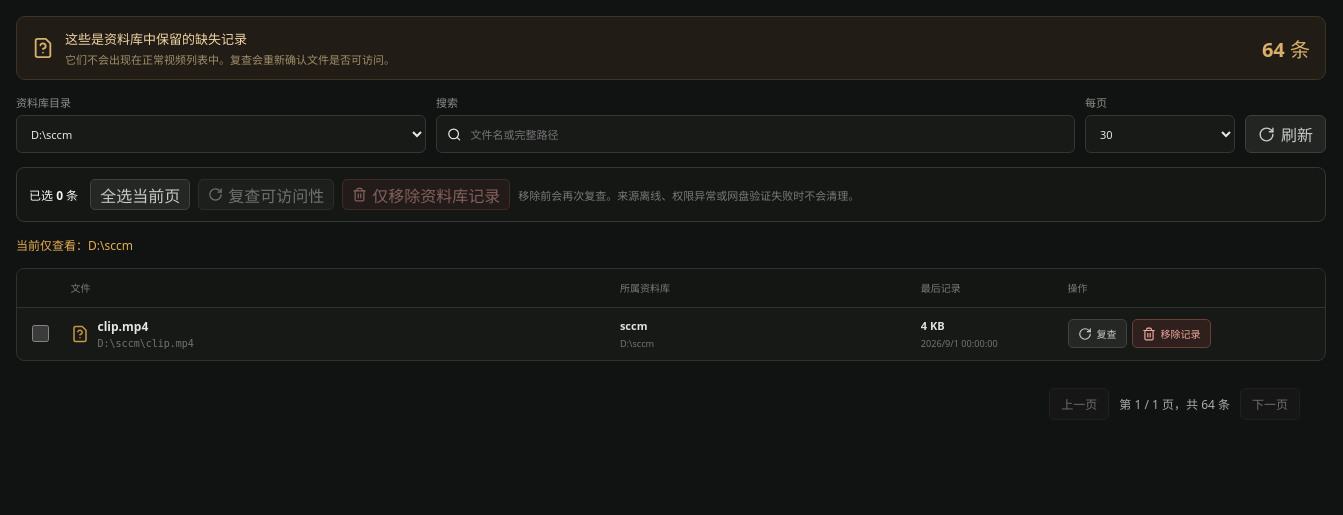
MissingVideosPage › loads a source-scoped missing list and rechecks selected records
Expected: the text "clip.mp4" is shown, x1=98 y1=318 x2=148 y2=335
Expected: the text "64 条" is shown, x1=1262 y1=34 x2=1310 y2=62
Click the checkbox named "选择 clip.mp4" at (40, 334), box x1=32 y1=325 x2=49 y2=342
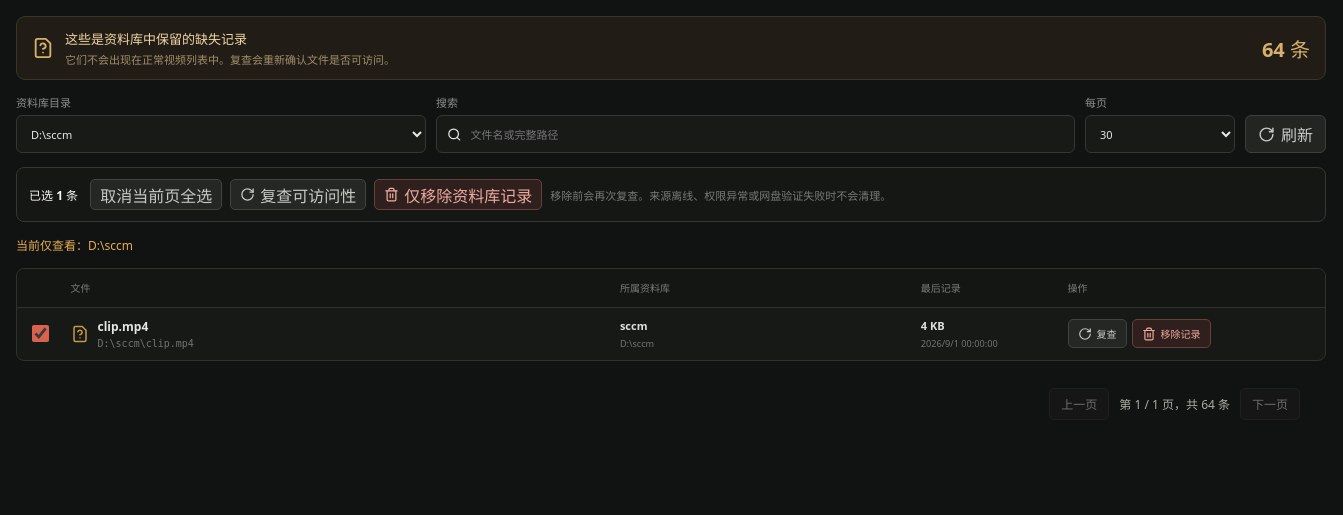
Click the button "复查可访问性" at (298, 194), box x1=230 y1=179 x2=366 y2=210
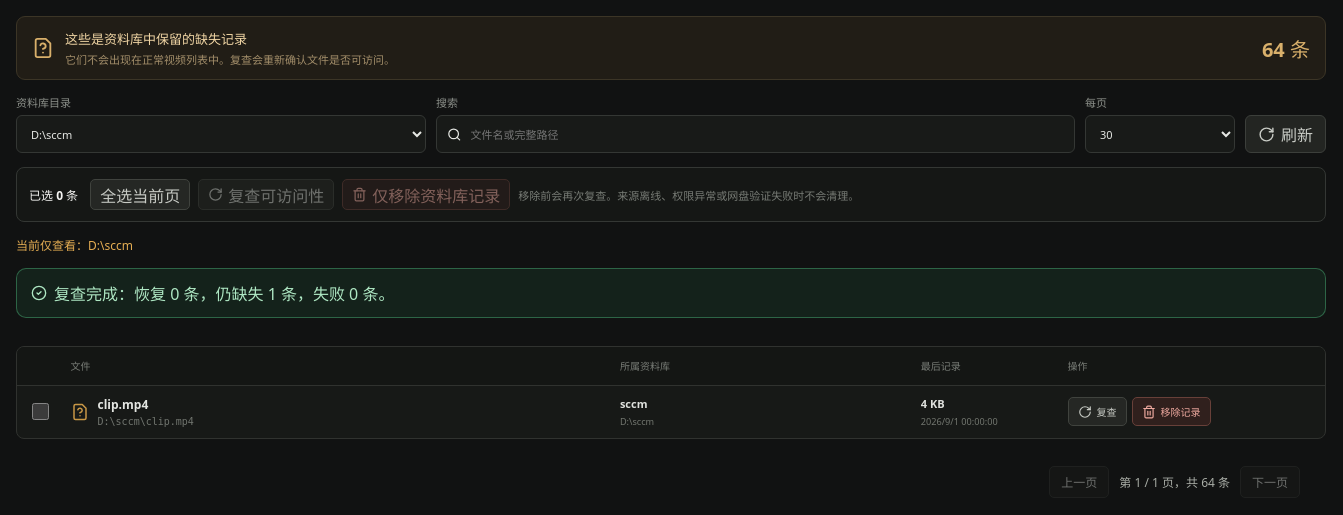
Result: the text "复查完成：恢复 0 条，仍缺失 1 条，失败 0 条。" is shown at x1=16 y1=268 x2=1326 y2=318
